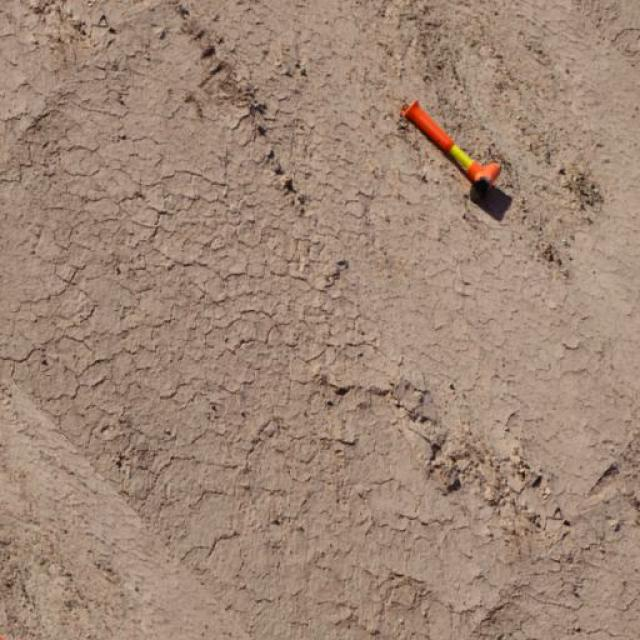mallet: (401, 98, 504, 202)
